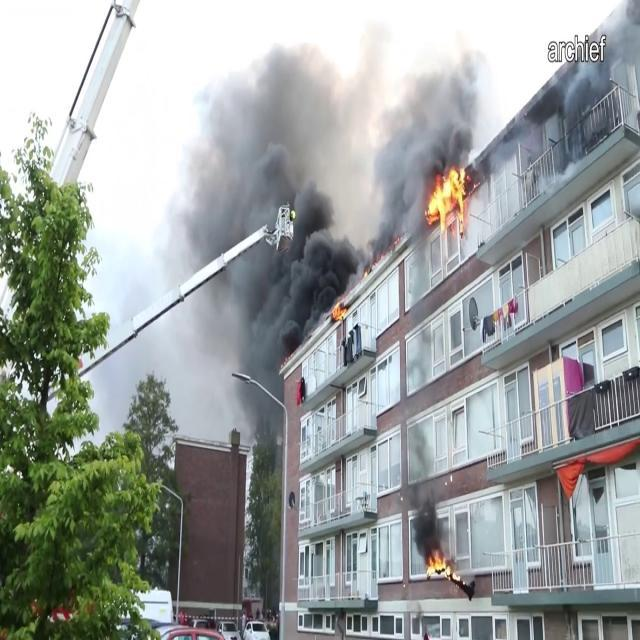Fire: (424, 159, 476, 244), (420, 544, 458, 577)
Smoke: (122, 3, 478, 361), (544, 0, 628, 162), (398, 340, 446, 554)
